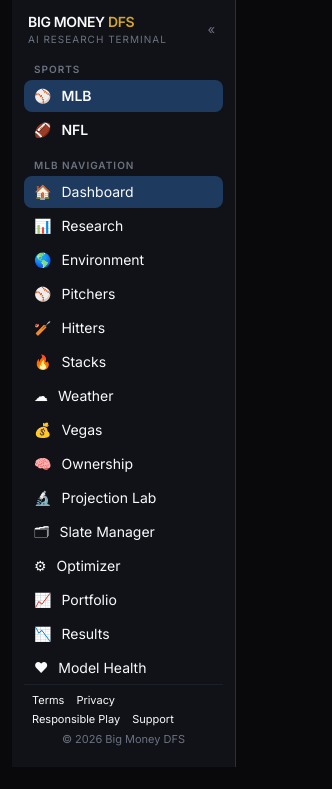
it: Sidebar › collapses to an icon rail and hides labels when the collapse button is clicked
Expected: the text "Dashboard" is shown, [62,182,134,202]
Click the button named "Collapse sidebar".
click(211, 29)  # box [203,16,219,42]
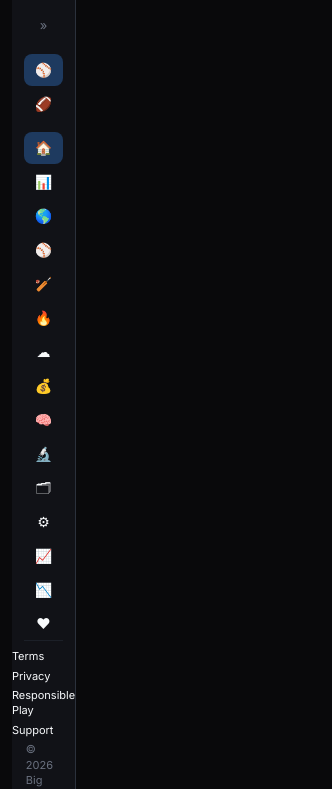
Now the text "Dashboard" is gone
Now the button named "Expand sidebar" is shown, box [36,12,51,38]
